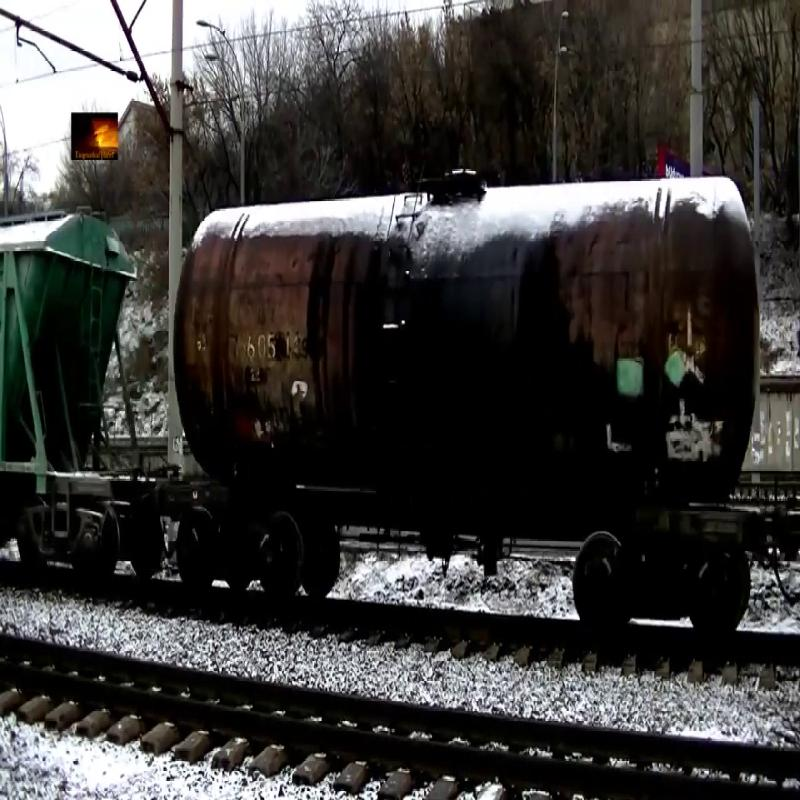train: (171, 160, 765, 524), (1, 201, 145, 534)
